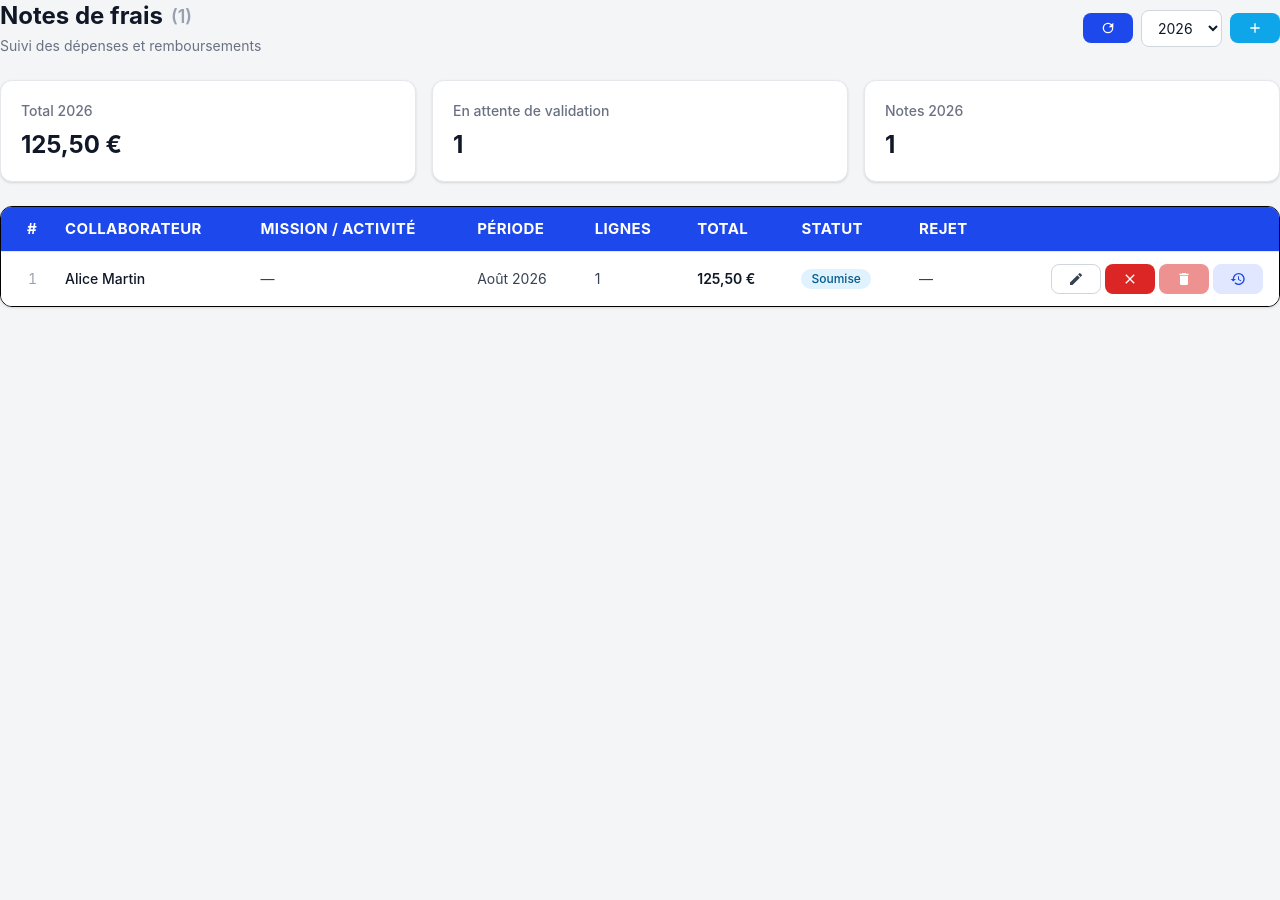
NoteFraisList › ouvre une note soumise en lecture seule au clic pour le collaborateur
Click the text "Alice Martin": (105, 278) [1, 252, 1279, 306]
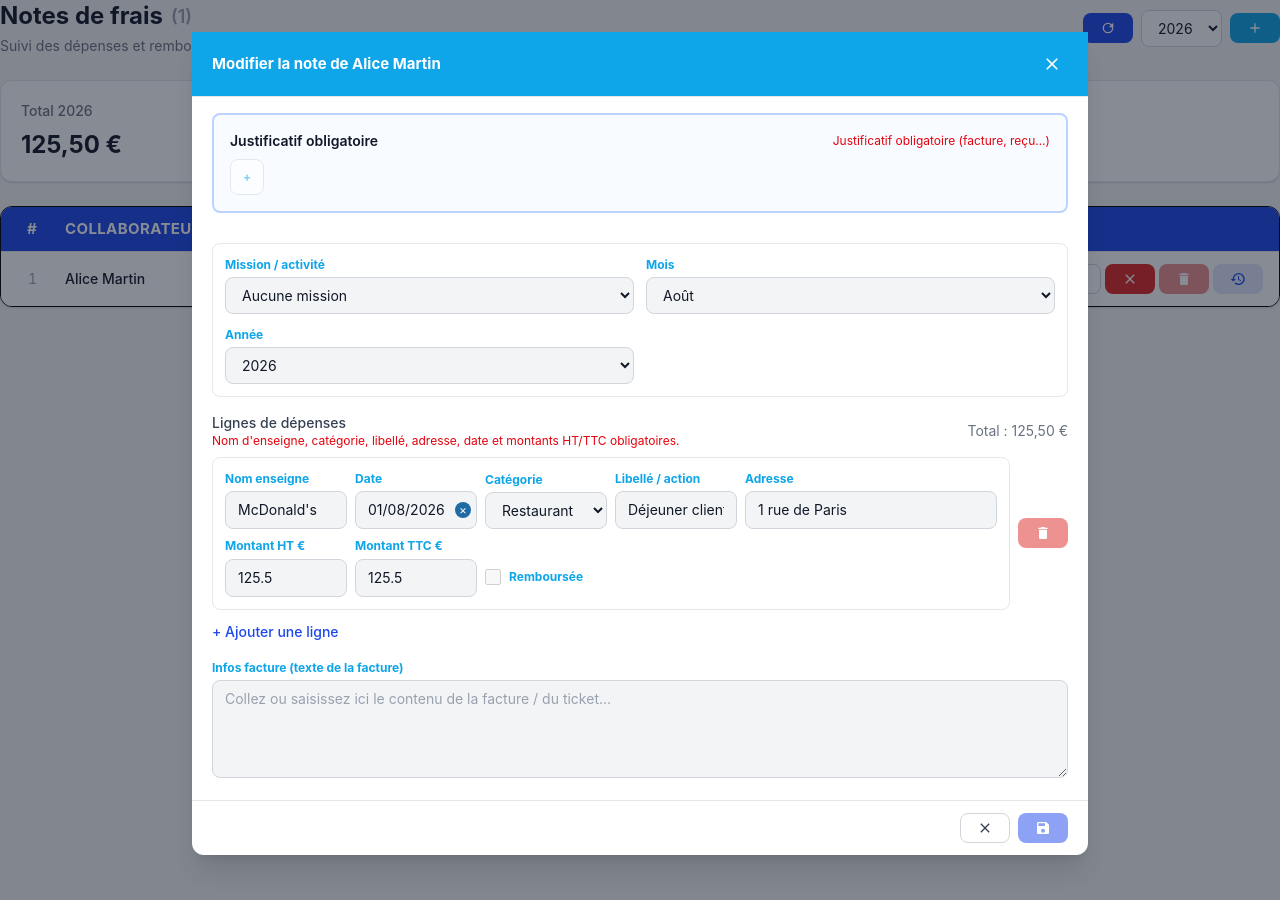
Result: the button named "Enregistrer" is disabled at [1018, 813, 1068, 843]
